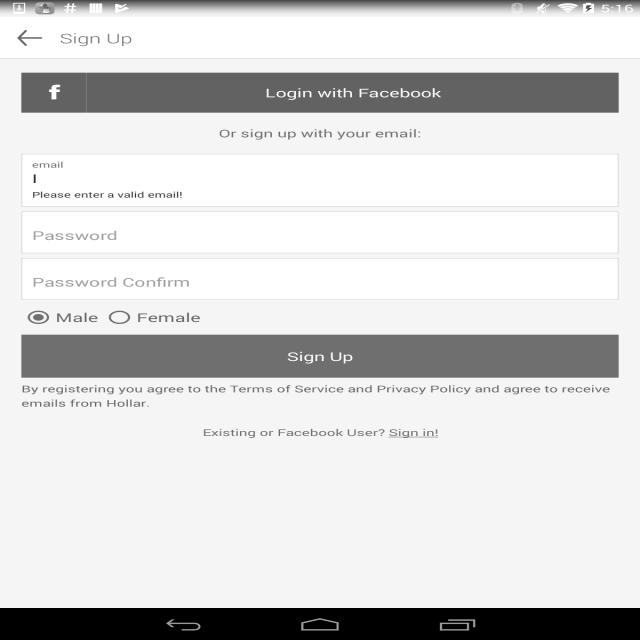Button: (21, 334, 619, 378), (21, 72, 619, 112)
EditText: (32, 225, 608, 247), (32, 168, 608, 189), (32, 272, 608, 293)
ImageButton: (0, 17, 60, 59)
RadioButton: (102, 307, 200, 328), (21, 307, 98, 328)
TextView: (21, 413, 619, 452), (21, 382, 619, 413), (60, 17, 132, 59), (219, 126, 421, 140), (32, 189, 182, 200)
